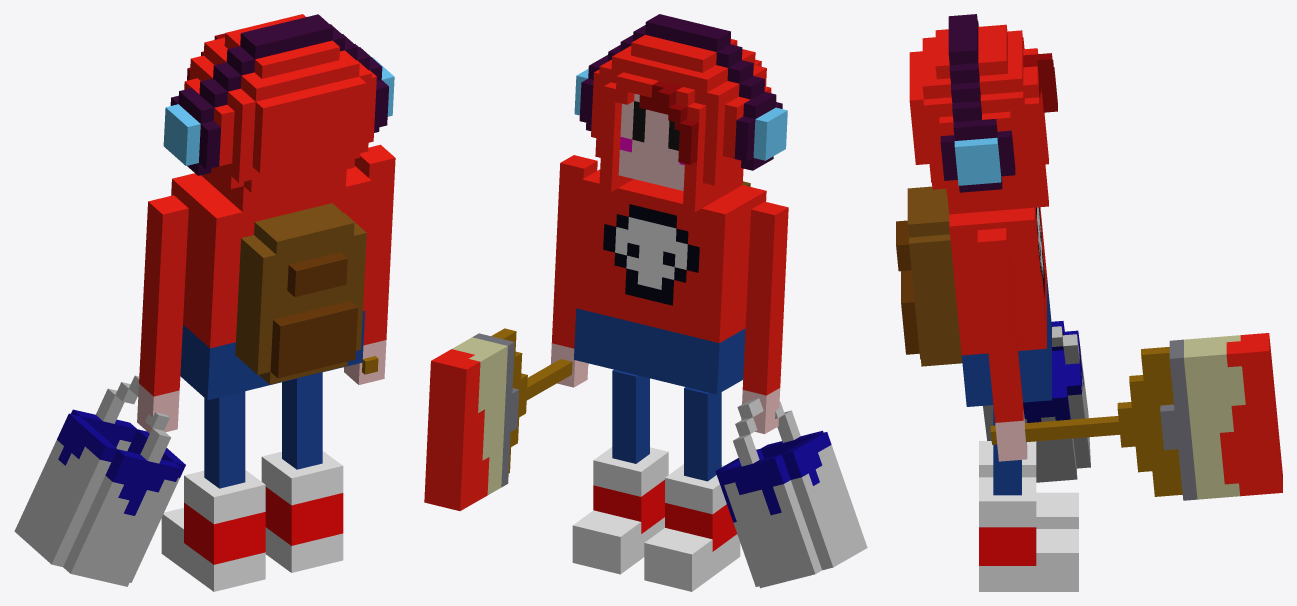
File: CharacterIdle.FBX
3 renders of one model, left to right at view 1: azimuth 30°, elevation 25°; view 2: azimuth 150°, elevation 25°; view 3: azimuth 270°, elevation 25°, orthographic. The views are drawn at different scales.
Parts seen in each view (by area): view 1: Body, Head, Bucket, LeftLeg, RightLeg, LeftForearm, LeftUpperarm, RightForearm, RightUpperarm; view 2: Body, Head, RightForearm, Bucket, RightLeg, LeftLeg, LeftForearm, LeftUpperarm, RightUpperarm; view 3: RightForearm, Head, Body, RightLeg, Bucket, RightUpperarm, LeftLeg.
Boxes of the visible parts, x1,y1,x2,y2 form: Body: (171,166,371,400); Head: (163,14,394,211); Bucket: (14,375,185,586); LeftLeg: (161,391,265,591); RightLeg: (261,372,343,572); LeftForearm: (137,293,184,433); LeftUpperarm: (143,195,188,305); RightForearm: (344,249,390,384); RightUpperarm: (354,144,395,254); Body: (574,169,766,394); Head: (574,14,787,212); RightForearm: (424,253,588,510); Bucket: (715,398,867,588); RightLeg: (572,369,668,574); LeftLeg: (644,387,740,591); LeftForearm: (741,298,784,434); LeftUpperarm: (747,201,788,305); RightUpperarm: (556,155,597,258); RightForearm: (986,321,1282,500); Head: (909,14,1057,214); Body: (896,186,1051,406); RightLeg: (979,406,1078,591); Bucket: (983,321,1090,482); RightUpperarm: (977,228,1014,332); LeftLeg: (979,441,1078,528).
Bounding box in the file's own units: 25.82 × 40.91 × 27.08.
